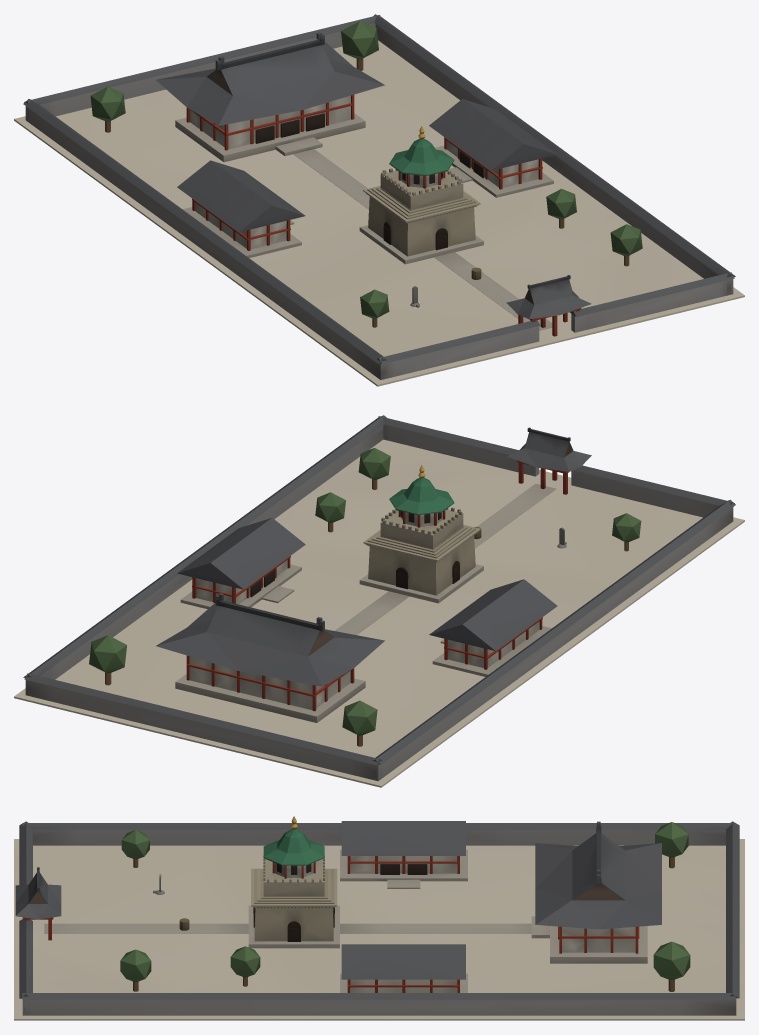
File: yanqing-temple.glb
3 views of the same model, one above another, from view 1: azimuth 30°, elevation 25°; view 2: azimuth 150°, elevation 25°; view 3: azimuth 270°, elevation 25° (orthographic).
Visible parts, largest first — view 1: p0_court, p2_trees, p1_halls; view 2: p0_court, p2_trees, p1_halls; view 3: p0_court, p2_trees, p1_halls.
Boxes of the visible parts, bbox=[...] form: p0_court: bbox=[14, 14, 744, 386]; p2_trees: bbox=[90, 21, 642, 327]; p1_halls: bbox=[175, 94, 591, 336]; p0_court: bbox=[14, 415, 744, 787]; p2_trees: bbox=[89, 448, 641, 746]; p1_halls: bbox=[175, 427, 591, 722]; p0_court: bbox=[14, 821, 744, 1020]; p2_trees: bbox=[120, 816, 690, 991]; p1_halls: bbox=[15, 850, 647, 992].
Size of the model in its own units: 70 by 20.75 by 120.
